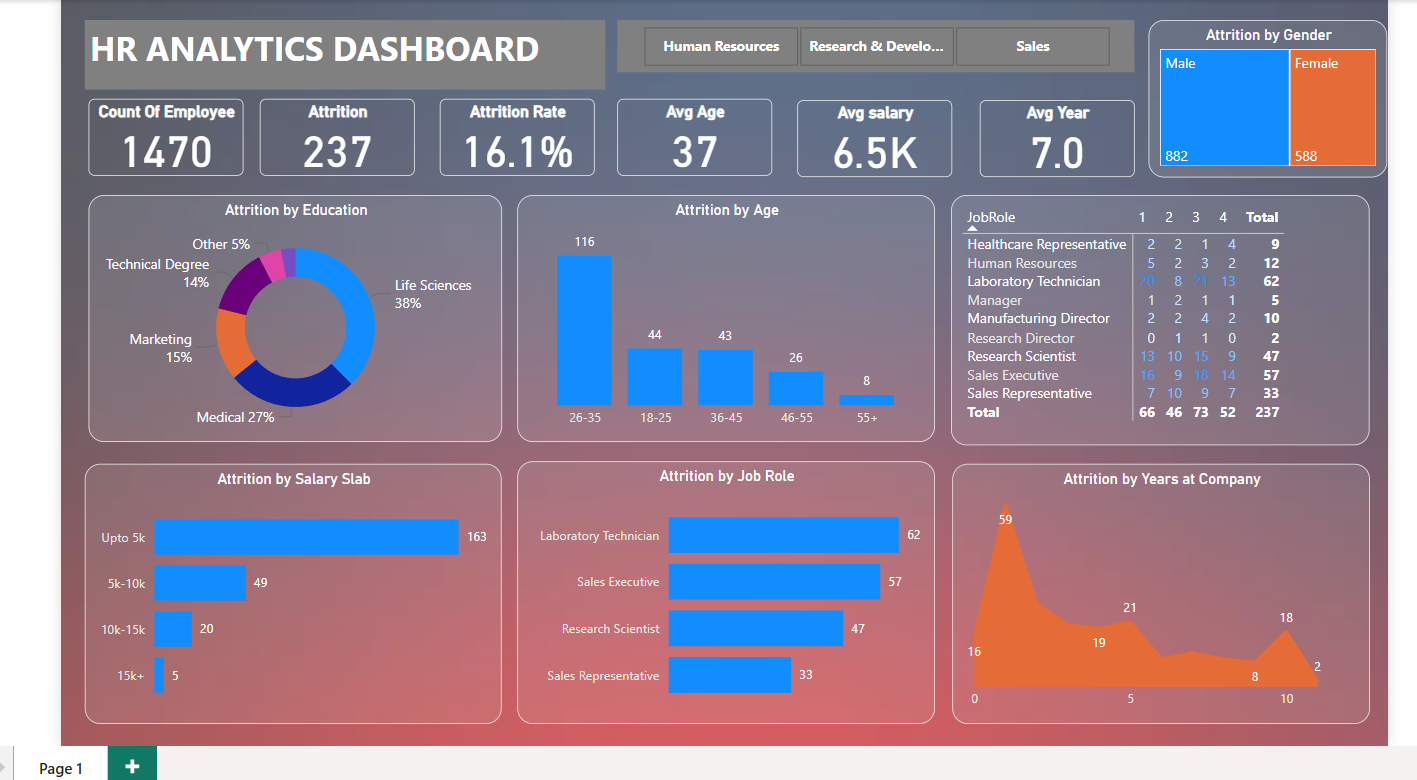

The page's visual inventory and layout, read from the dashboard file:
{"tool":"powerbi","page":{"name":"Page 1","canvas":[1280,720],"ordinal":0},"visuals":[{"type":"card","title":"Count Of Employee","fields":{"Values":["CountNonNull(HR_Analytics.EmpID)"]},"box":[26.5,95.8,149.6,74.8],"z":0},{"type":"card","title":"Attrition Rate","fields":{"Values":["HR_Analytics.Attrition rate"]},"box":[365.6,95.8,149.6,74.8],"z":1000},{"type":"card","title":"Avg  Age","fields":{"Values":["Avg(HR_Analytics.Age)"]},"box":[536.9,95.8,149.6,74.8],"z":2000},{"type":"card","title":"Attrition","fields":{"Values":["Sum(HR_Analytics.Attrition Count)"]},"box":[191.8,95.8,149.6,74.8],"z":3000},{"type":"card","title":"Avg salary","fields":{"Values":["Avg(HR_Analytics.MonthlyIncome)"]},"box":[710.4,96,149.6,74.8],"z":4000},{"type":"card","title":"Avg Year","fields":{"Values":["Avg(HR_Analytics.YearsAtCompany)"]},"box":[886.5,96,149.6,74.8],"z":5000},{"type":"donutChart","title":"Attrition by Education","fields":{"Category":["HR_Analytics.EducationField"],"Y":["Sum(HR_Analytics.Attrition Count)"]},"box":[26.1,188,399.3,238.8],"z":6000},{"type":"columnChart","title":"Attrition by Age","fields":{"Category":["HR_Analytics.AgeGroup"],"Y":["Sum(HR_Analytics.Attrition Count)"]},"box":[440.5,188,403.4,238.8],"z":7000},{"type":"pivotTable","fields":{"Rows":["HR_Analytics.JobRole"],"Columns":["HR_Analytics.JobSatisfaction"],"Values":["Sum(HR_Analytics.Attrition Count)"]},"box":[859,188.2,404.2,241.3],"z":8000},{"type":"barChart","title":"Attrition by Salary Slab","fields":{"Category":["HR_Analytics.SalarySlab"],"Y":["Sum(HR_Analytics.Attrition Count)"]},"box":[23.3,447.3,402.1,251.1],"z":9000},{"type":"barChart","title":"Attrition by Job Role","fields":{"Category":["HR_Analytics.JobRole"],"Y":["Sum(HR_Analytics.Attrition Count)"]},"box":[440.5,444.6,403.4,253.9],"z":10000},{"type":"areaChart","title":"Attrition by Years at Company","fields":{"Category":["HR_Analytics.YearsAtCompany"],"Y":["Sum(HR_Analytics.Attrition Count)"]},"box":[860.4,447.3,403.4,251.1],"z":11000},{"type":"treemap","title":"Attrition by Gender","fields":{"Group":["HR_Analytics.Gender"],"Values":["CountNonNull(HR_Analytics.EmpID)"]},"box":[1049.6,19.3,230.4,152],"z":12000},{"type":"slicer","fields":{"Values":["HR_Analytics.Department"]},"box":[536.9,19.3,499.5,50.7],"z":13000},{"type":"textbox","box":[23.3,19.2,502.2,67.2],"z":14000}]}

Visuals, with their boxes in screenshot pixels (x1, y1, x2, y2):
"Count Of Employee" card: <bbox>61, 98, 221, 178</bbox>
"Attrition Rate" card: <bbox>423, 98, 583, 178</bbox>
"Avg  Age" card: <bbox>606, 98, 765, 178</bbox>
"Attrition" card: <bbox>238, 98, 397, 178</bbox>
"Avg salary" card: <bbox>791, 99, 950, 178</bbox>
"Avg Year" card: <bbox>979, 99, 1138, 178</bbox>
"Attrition by Education" donutChart: <bbox>61, 197, 487, 451</bbox>
"Attrition by Age" columnChart: <bbox>503, 197, 933, 451</bbox>
pivotTable - HR_Analytics.JobRole x HR_Analytics.JobSatisfaction: <bbox>949, 197, 1380, 454</bbox>
"Attrition by Salary Slab" barChart: <bbox>58, 473, 487, 741</bbox>
"Attrition by Job Role" barChart: <bbox>503, 470, 933, 741</bbox>
"Attrition by Years at Company" areaChart: <bbox>951, 473, 1381, 741</bbox>
"Attrition by Gender" treemap: <bbox>1153, 17, 1398, 179</bbox>
slicer - HR_Analytics.Department: <bbox>606, 17, 1138, 71</bbox>
textbox: <bbox>58, 17, 594, 88</bbox>
